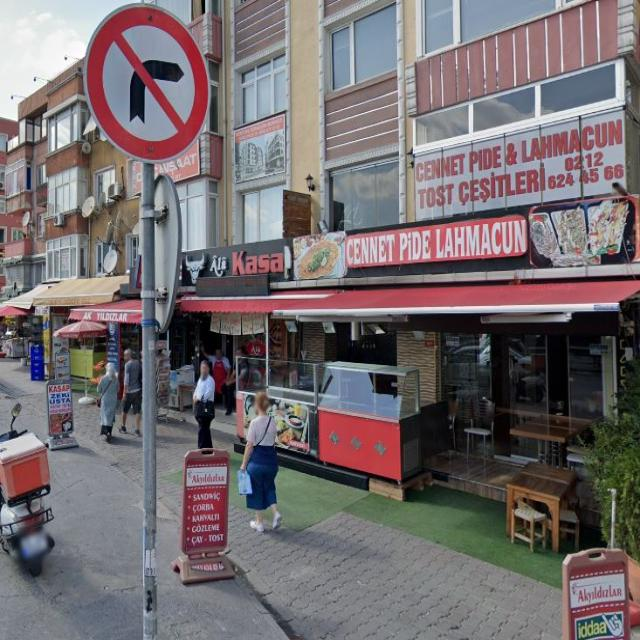sagadonulmez: (84, 3, 209, 163)
